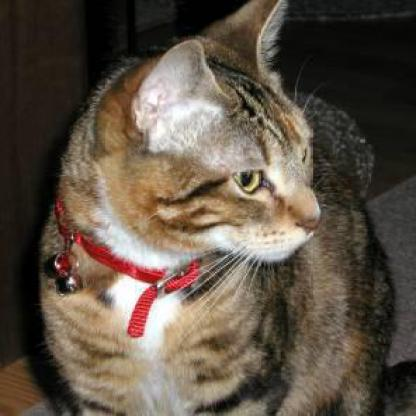cat: (39, 0, 395, 415)
